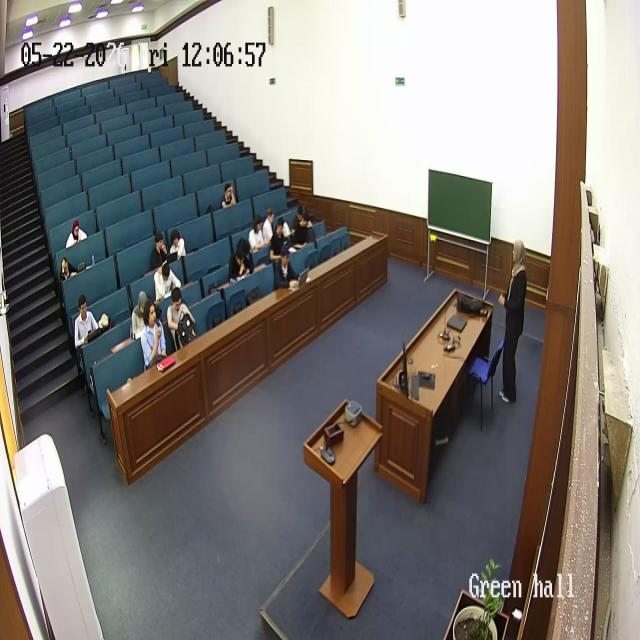person: (498, 239, 528, 404), (140, 299, 168, 367), (166, 287, 195, 349), (74, 292, 100, 350), (227, 237, 253, 283), (274, 245, 299, 289), (154, 259, 180, 301), (268, 216, 290, 261), (290, 203, 313, 246), (130, 290, 149, 338), (247, 212, 267, 254), (150, 232, 170, 269), (66, 217, 88, 248), (168, 228, 185, 262), (262, 206, 276, 246), (61, 257, 81, 283), (220, 182, 237, 211)
